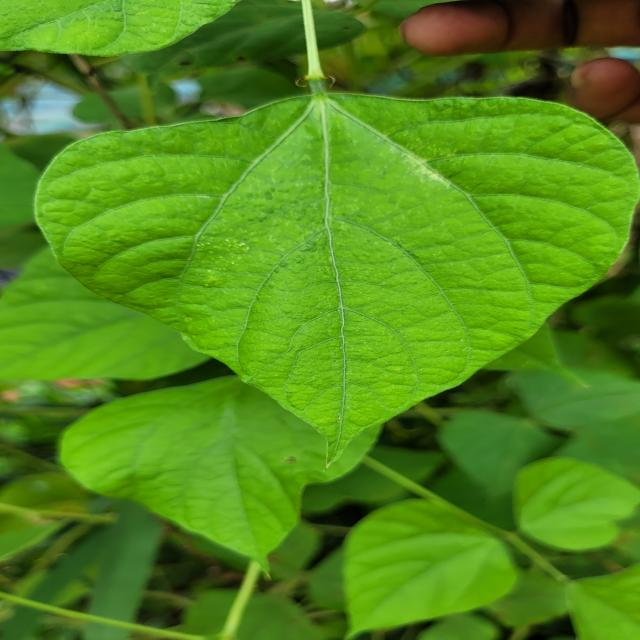Dolicos bean_healthy: (36, 90, 640, 445), (50, 377, 378, 560), (0, 229, 263, 394), (330, 498, 517, 640), (507, 454, 639, 552)
